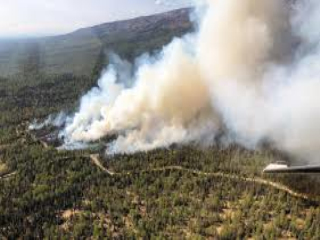smoke: (40, 28, 286, 162)
